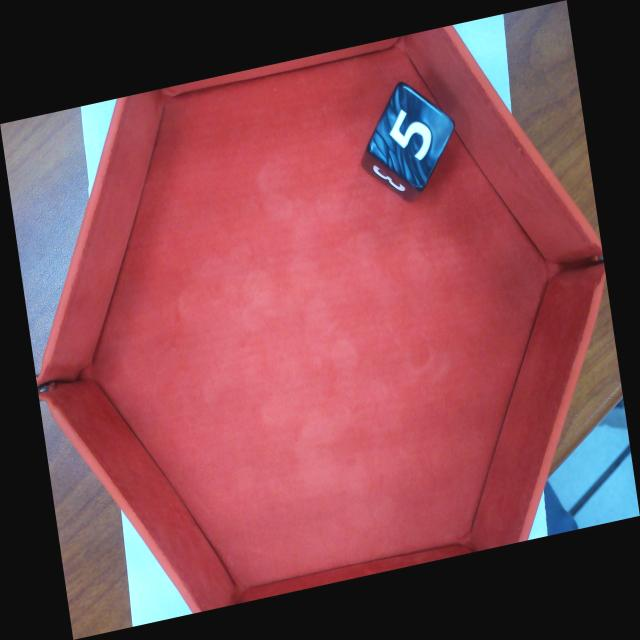dice: (366, 82, 456, 192)
